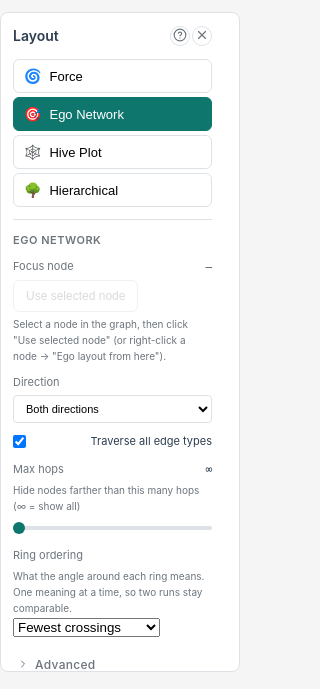
Scenario: LayoutPanel — crossing heuristic controls › exposes the sweep count only for the sweep-based heuristics
Click the element with test id "ego-advanced-toggle" at (56, 664), box [17,657,96,672]
(page scrolled)
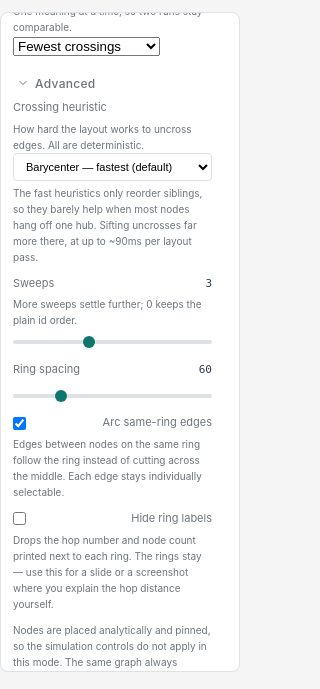
expect the slider with test id "ego-crossing-sweeps" is shown: met, box [13,340,212,344]
